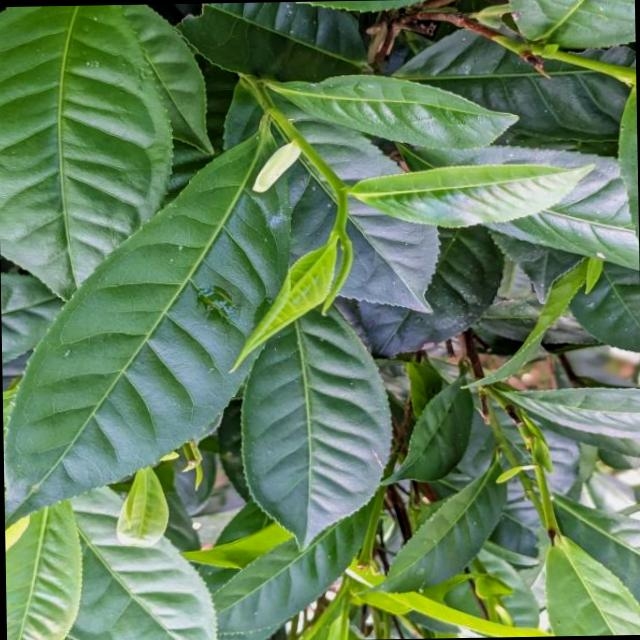Stem: (332, 180, 342, 189)
